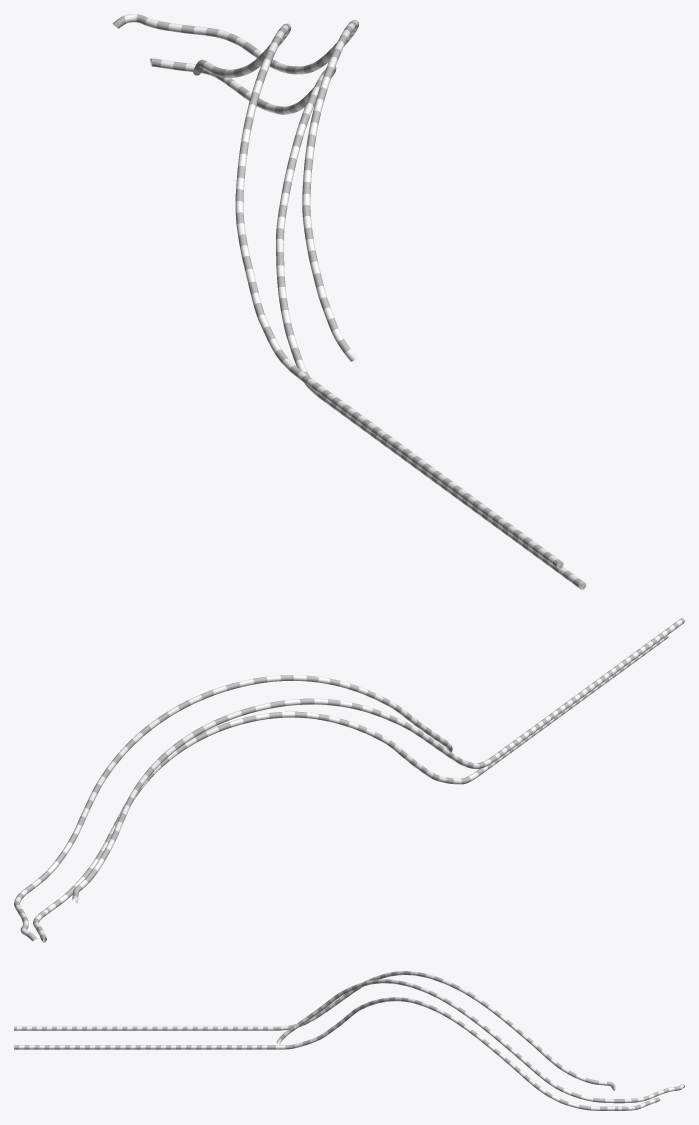
File: Rail_Left_UpperCurve_Start.fbx
3 renders of one model, top to bottom at view 1: azimuth 30°, elevation 25°; view 2: azimuth 150°, elevation 25°; view 3: azimuth 270°, elevation 25°, orthographic. The views are drawn at different scales.
Parts seen in each view (by area): view 1: Rail_Left_UpperCurve_Start; view 2: Rail_Left_UpperCurve_Start; view 3: Rail_Left_UpperCurve_Start.
Boxes of the visible parts, bbox=[...] form: Rail_Left_UpperCurve_Start: bbox=[113, 14, 586, 589]; Rail_Left_UpperCurve_Start: bbox=[14, 618, 684, 942]; Rail_Left_UpperCurve_Start: bbox=[14, 971, 684, 1110].
Size of the model in its own units: 341 by 1303 by 218.
Materials: 1 (1 with a texture image).
